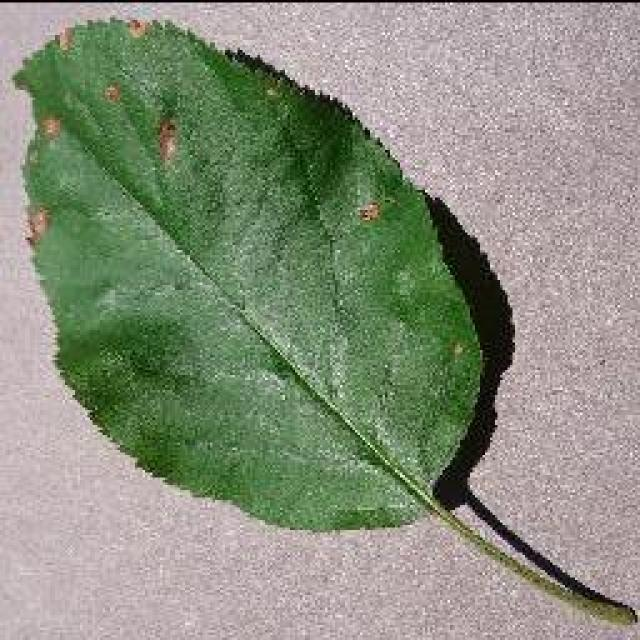apple black rot: (10, 12, 638, 628)
